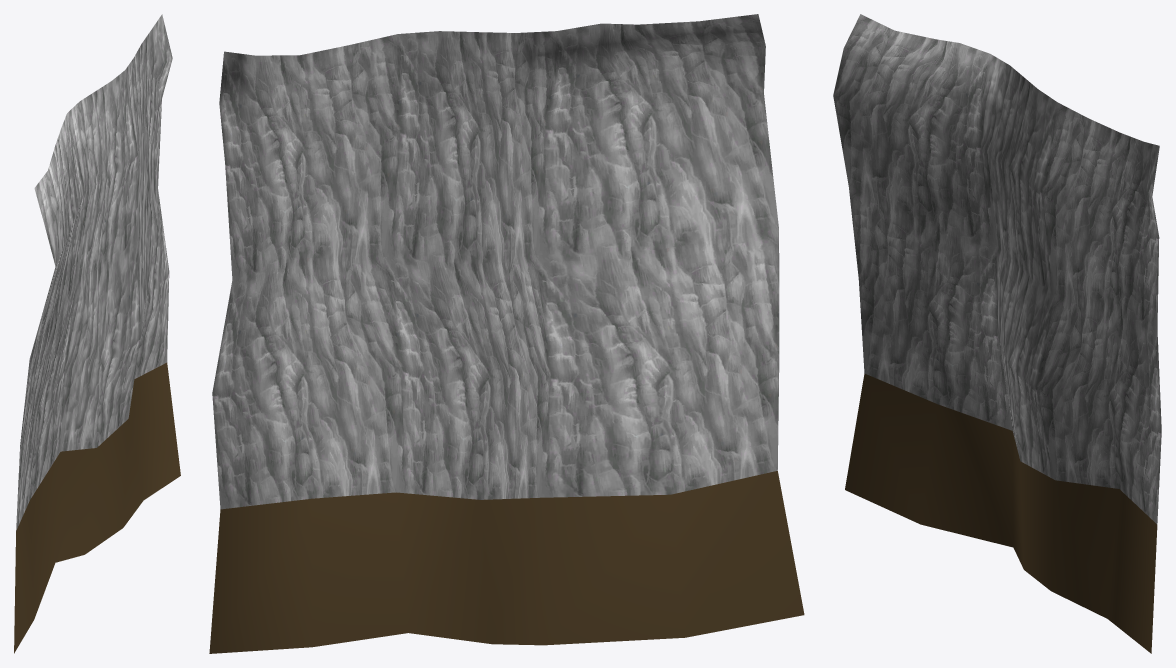
The model's file is SWORDLIGHT20_PS-AREA03_08.fbx.
The picture shows the model from 3 angles, left to right: view 1: azimuth 30°, elevation 25°; view 2: azimuth 150°, elevation 25°; view 3: azimuth 270°, elevation 25°; orthographic projection. The views are drawn at different scales.
Visible parts, largest first — view 1: SWORDLIGHT20_PS-AREA03_08; view 2: SWORDLIGHT20_PS-AREA03_08; view 3: SWORDLIGHT20_PS-AREA03_08.
Boxes of the visible parts, left/top/right/bottom form: SWORDLIGHT20_PS-AREA03_08: left=14, top=14, right=180, bottom=653; SWORDLIGHT20_PS-AREA03_08: left=209, top=14, right=804, bottom=653; SWORDLIGHT20_PS-AREA03_08: left=833, top=14, right=1161, bottom=653.
Bounding box in the file's own units: 137298 × 198580 × 117015.
Materials: 2 (2 with a texture image).
